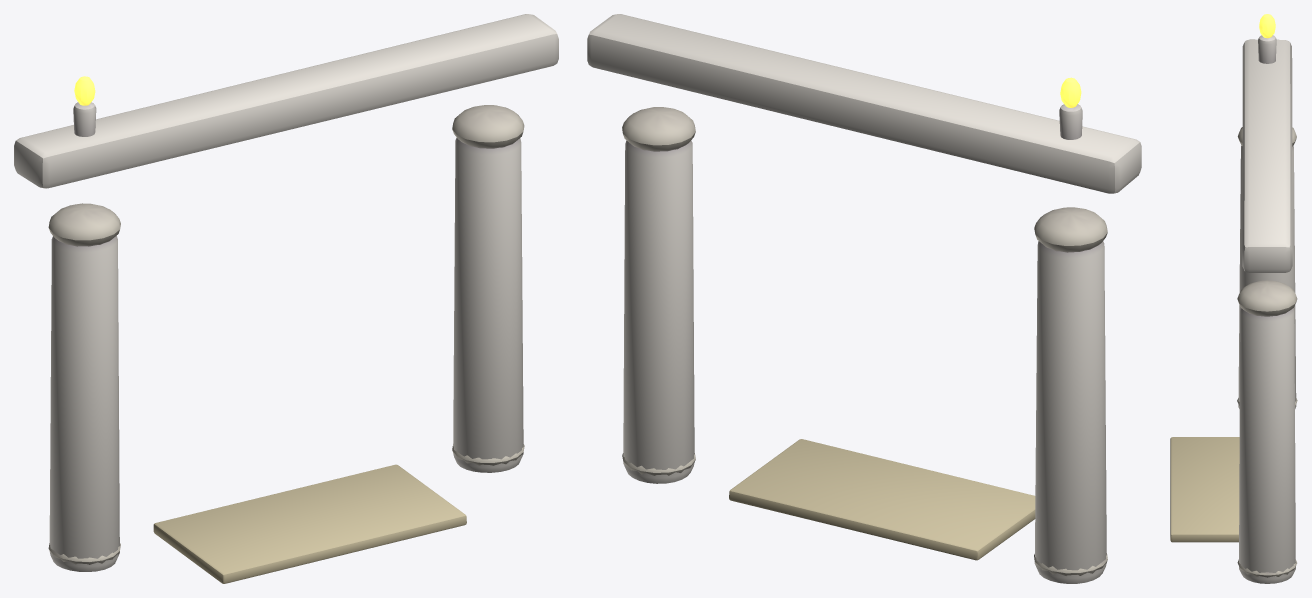
3 renders of one model, left to right at view 1: azimuth 30°, elevation 25°; view 2: azimuth 150°, elevation 25°; view 3: azimuth 270°, elevation 25°, orthographic. The views are drawn at different scales.
Visible parts, largest first — view 1: gate_ab391663; view 2: gate_ab391663; view 3: gate_ab391663.
Boxes of the visible parts, x1=… form: gate_ab391663: x1=14, y1=14, x2=558, y2=583; gate_ab391663: x1=587, y1=14, x2=1141, y2=583; gate_ab391663: x1=1170, y1=14, x2=1297, y2=583.
Size of the model in its own units: 5.11 by 4.55 by 1.31.
